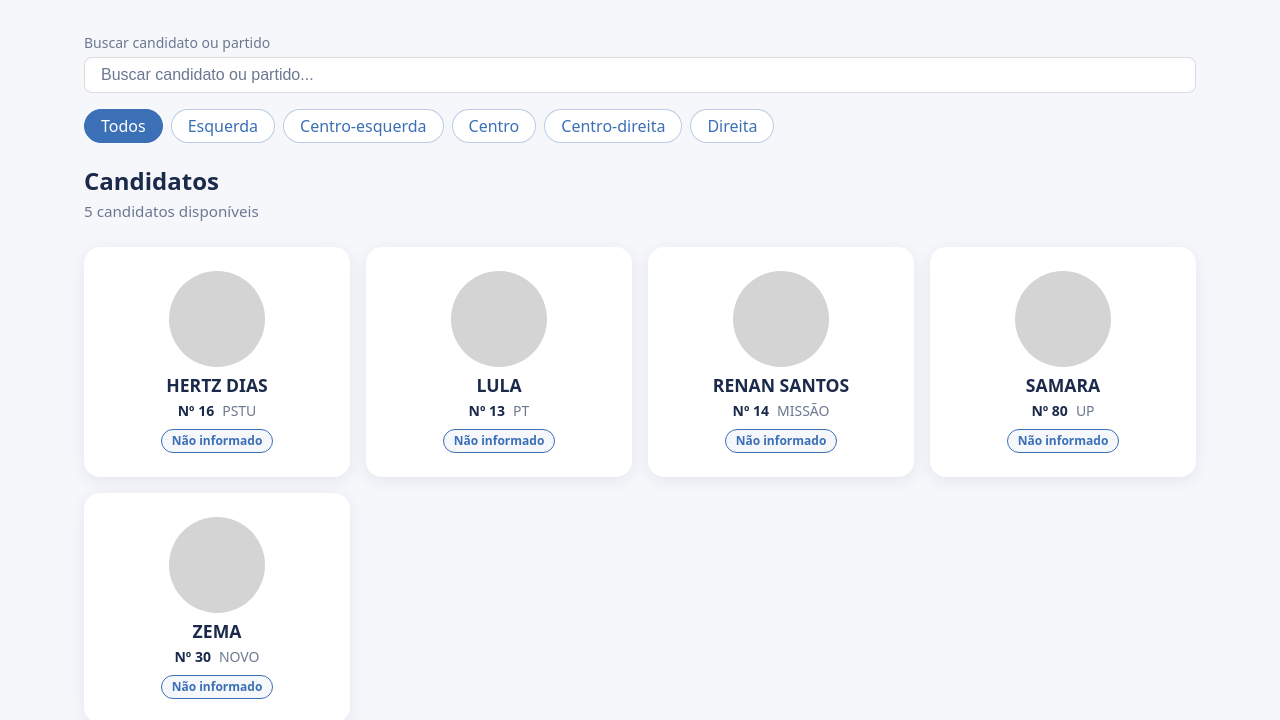
CandidateListPage › shows the no-results message when a search matches nothing (Req 3.13)
Type "inexistente-xyz" into the field with placeholder "Buscar candidato ou partido...".
click(640, 75); type("inexistente-xyz")  # box [84,57,1196,93]
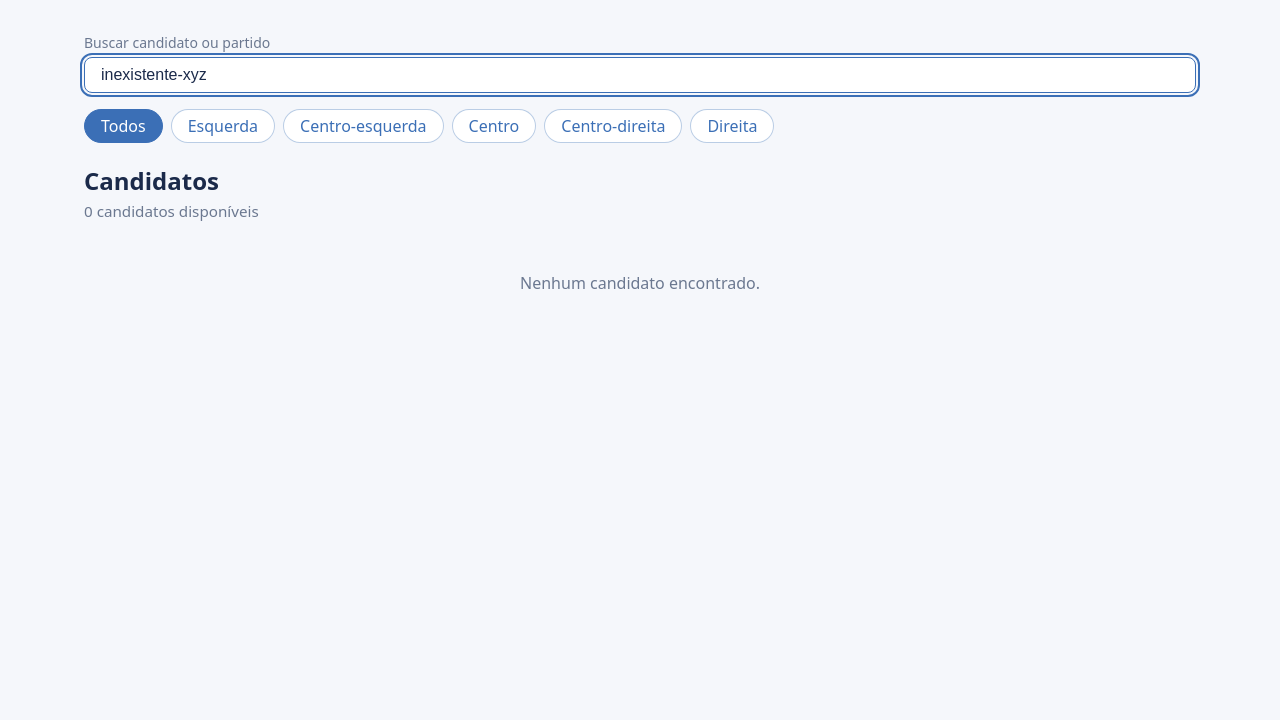
Check: the text "0 candidatos disponíveis" is shown, box [84,201,259,221]
Check: no links are shown
